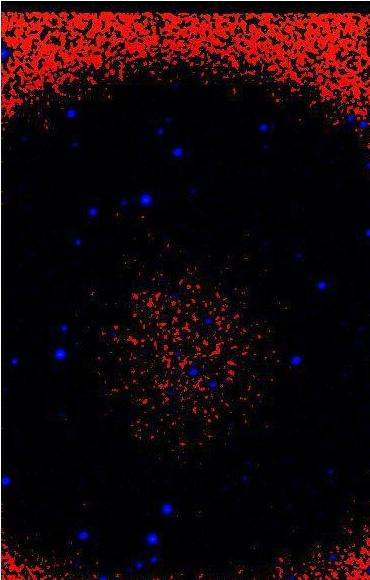star: (139, 405, 169, 435)
